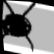not correct: (0, 0, 46, 54)
